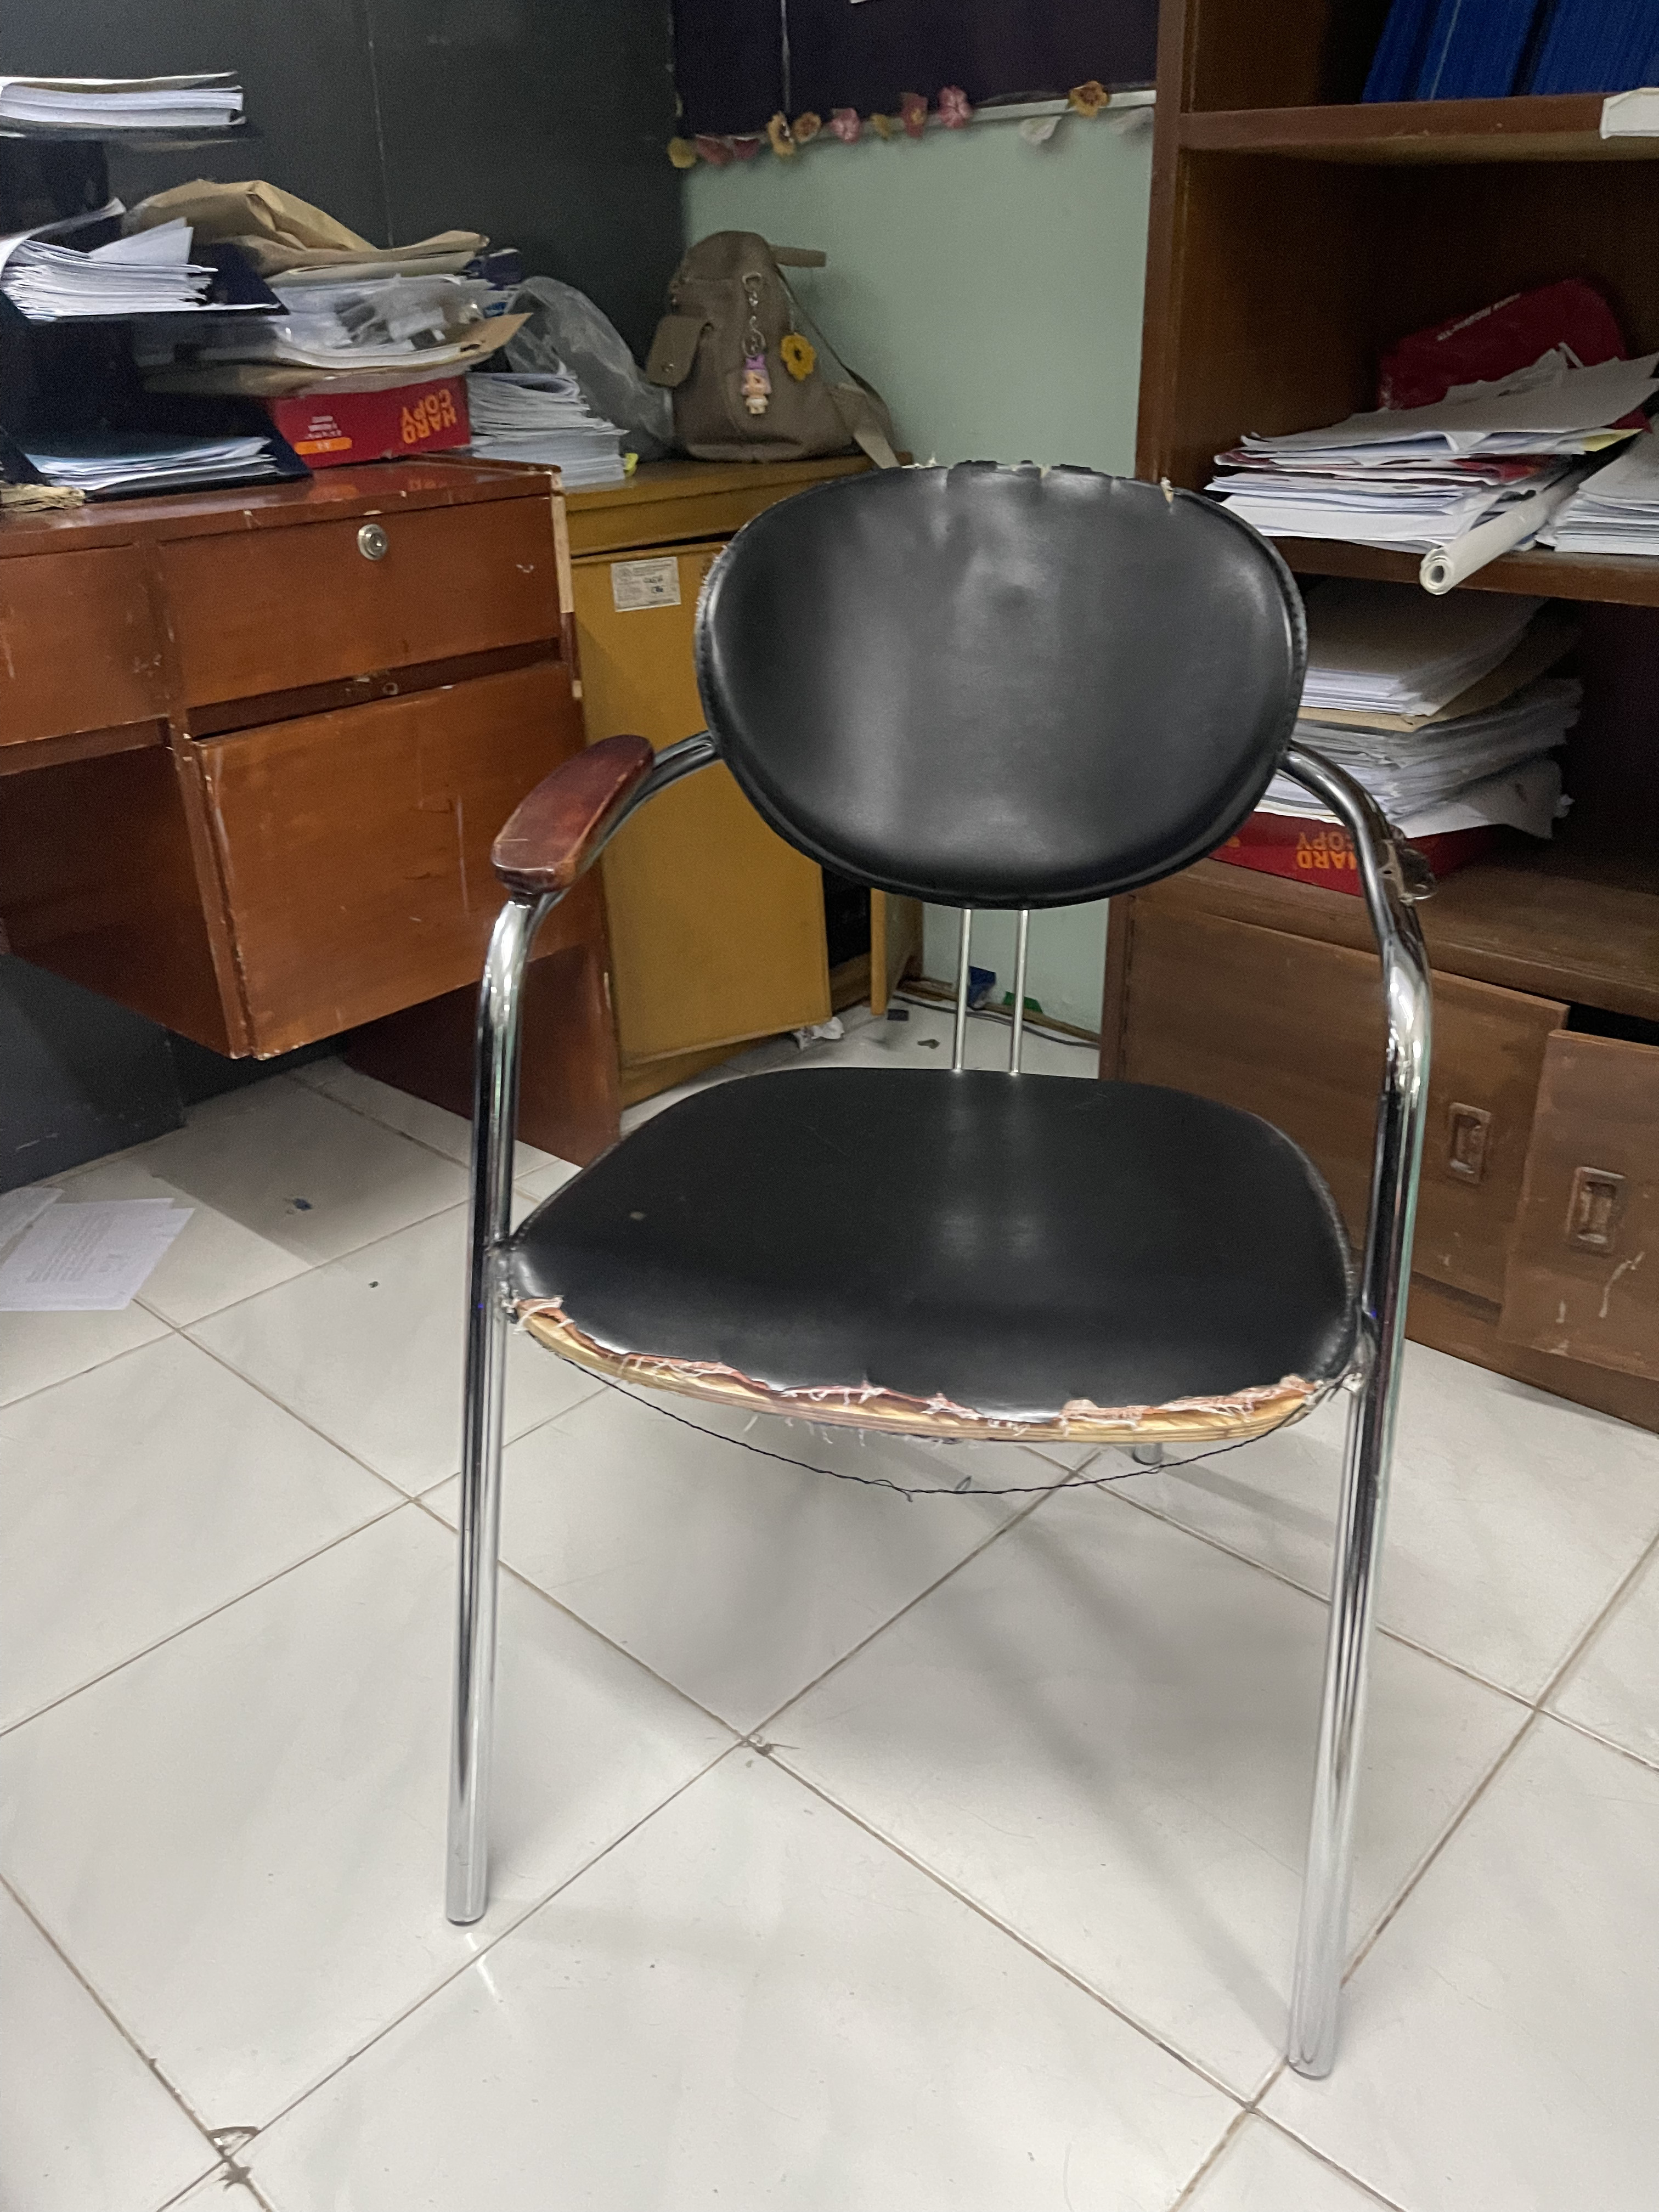chair1: (441, 453, 1436, 2099)
